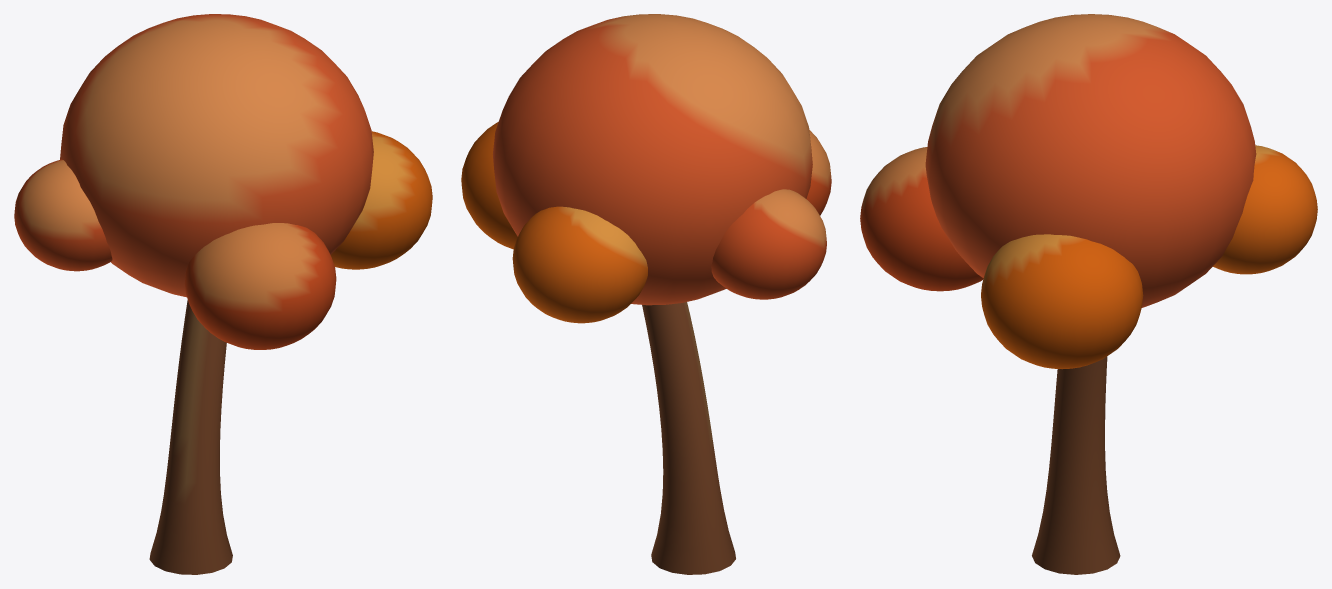
Rendered from lollipop-tree-1.obj.
3 renders of one model, left to right at view 1: azimuth 30°, elevation 25°; view 2: azimuth 150°, elevation 25°; view 3: azimuth 270°, elevation 25°, orthographic. The views are drawn at different scales.
Parts seen in each view (by area): view 1: tree; view 2: tree; view 3: tree.
Part boxes in pixels (x1,y1,x2,y2): tree: (14, 14, 432, 574); tree: (461, 14, 831, 574); tree: (860, 14, 1317, 574).
Size of the model in its own units: 262 by 347 by 266.
